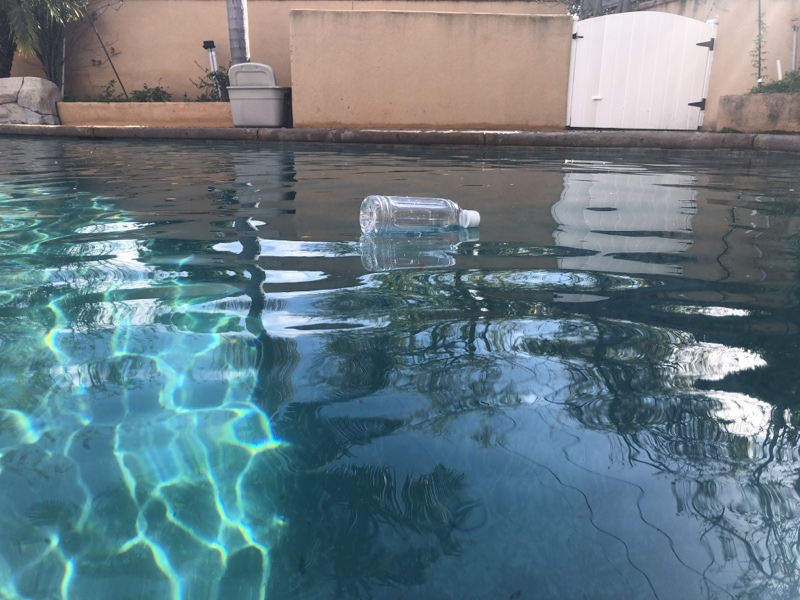Plastic Bottle: (357, 191, 483, 241)
